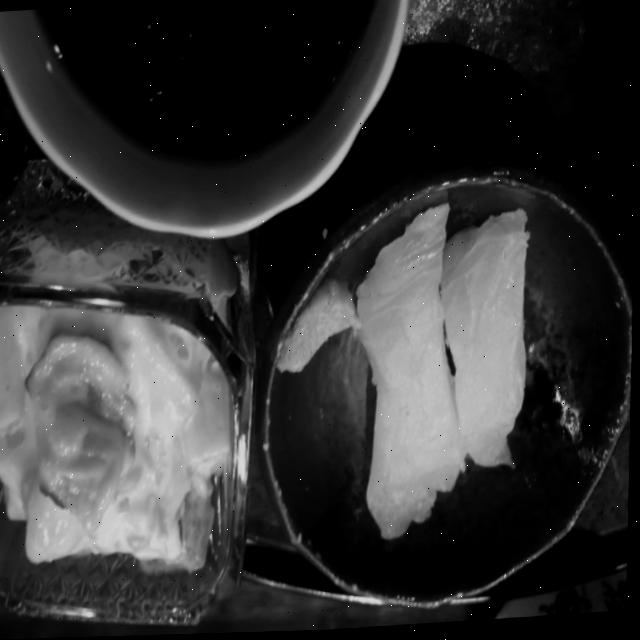刺身生食: (298, 138, 569, 578)
